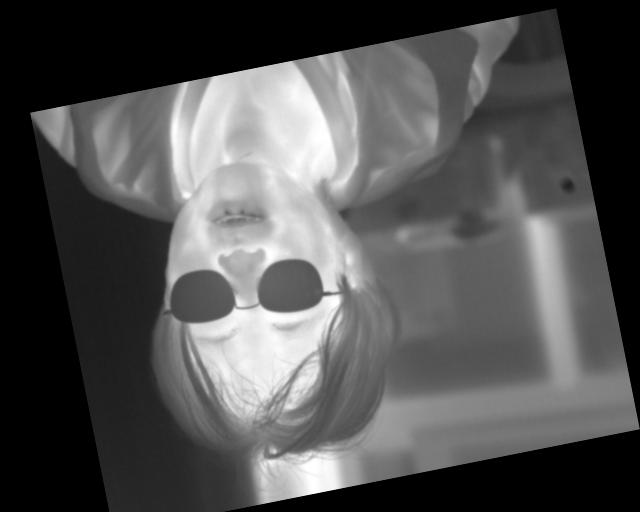face: (114, 136, 411, 489)
